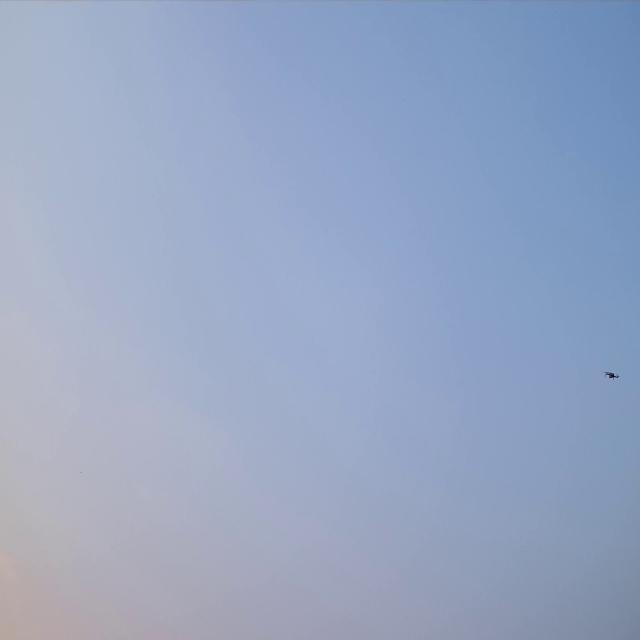UAV: (605, 372, 618, 378)
